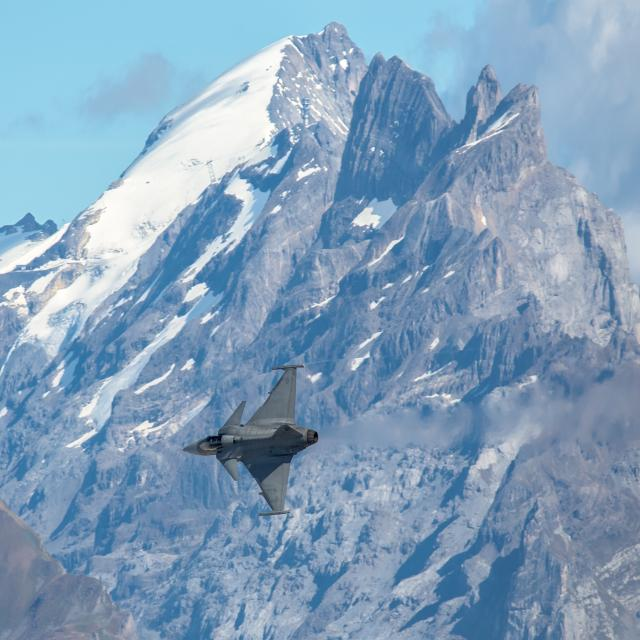MIL_Plane: (176, 364, 318, 516)
